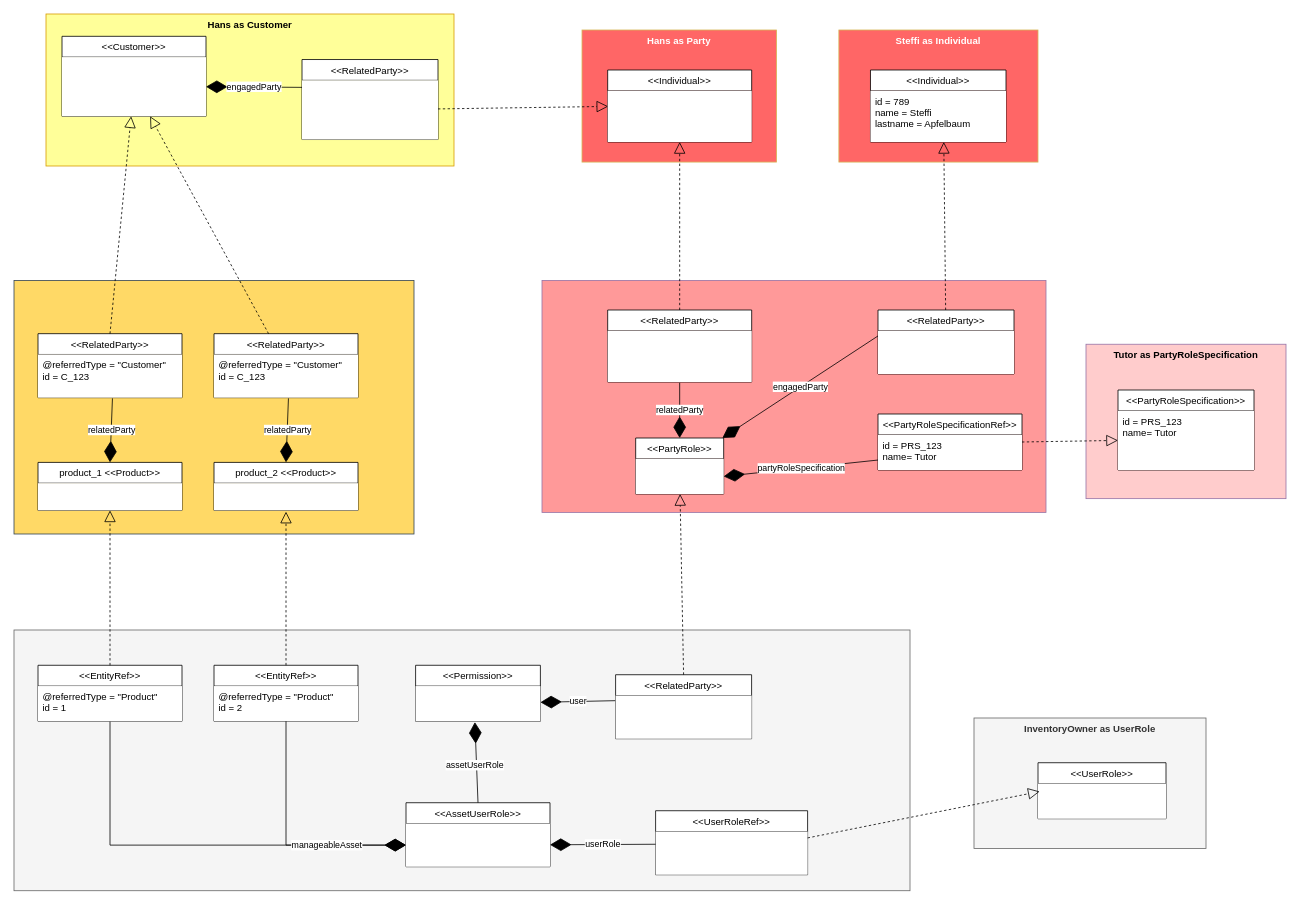
The diagram is 1300 pixels wide and 905 high, and some of its shapes have lost their labels. The box of each missing label's shape, as (x1, y1, x2, y2) in pixels:
@referred Type = "Individual" id = 246 name = Hans: (607, 330, 751, 382)
@referredType = "Individual" id = 246 name = Hans: (302, 80, 438, 139)
@referredType = "Individual" id = 789 name = Steffi: (878, 330, 1014, 374)
@referredType = "PartyRole" id = PR_123: (615, 695, 751, 738)
@referredType = "UserRole" id = UR_123 name = InventoryOwner: (655, 831, 807, 874)
@type = "assetUserRole" id = 1: (406, 823, 550, 866)
id = 1: (38, 483, 182, 510)
id = 2: (214, 483, 358, 510)
id = 246 name = Hans lastname = Frühwein: (607, 90, 751, 142)
id = C_123 name = HansAsCustomer: (62, 57, 206, 116)
id = P_123: (415, 686, 540, 721)
id = PR_123: (635, 458, 723, 494)
id = UR_123 name = InventoryOwner: (1038, 783, 1166, 818)
Permission for Steffi to access Hans's products: (13, 629, 910, 891)
Product Inventory: (13, 280, 414, 534)
Tutor as PartyRole of Steffi: (541, 280, 1046, 512)
